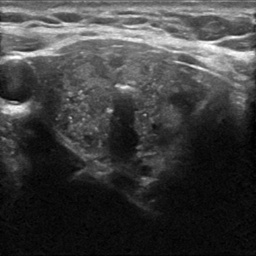mass: (49, 45, 210, 174)
